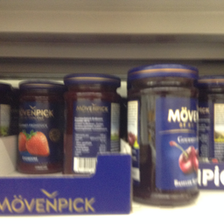jam: (126, 64, 202, 208), (62, 73, 122, 176), (16, 82, 62, 173)
